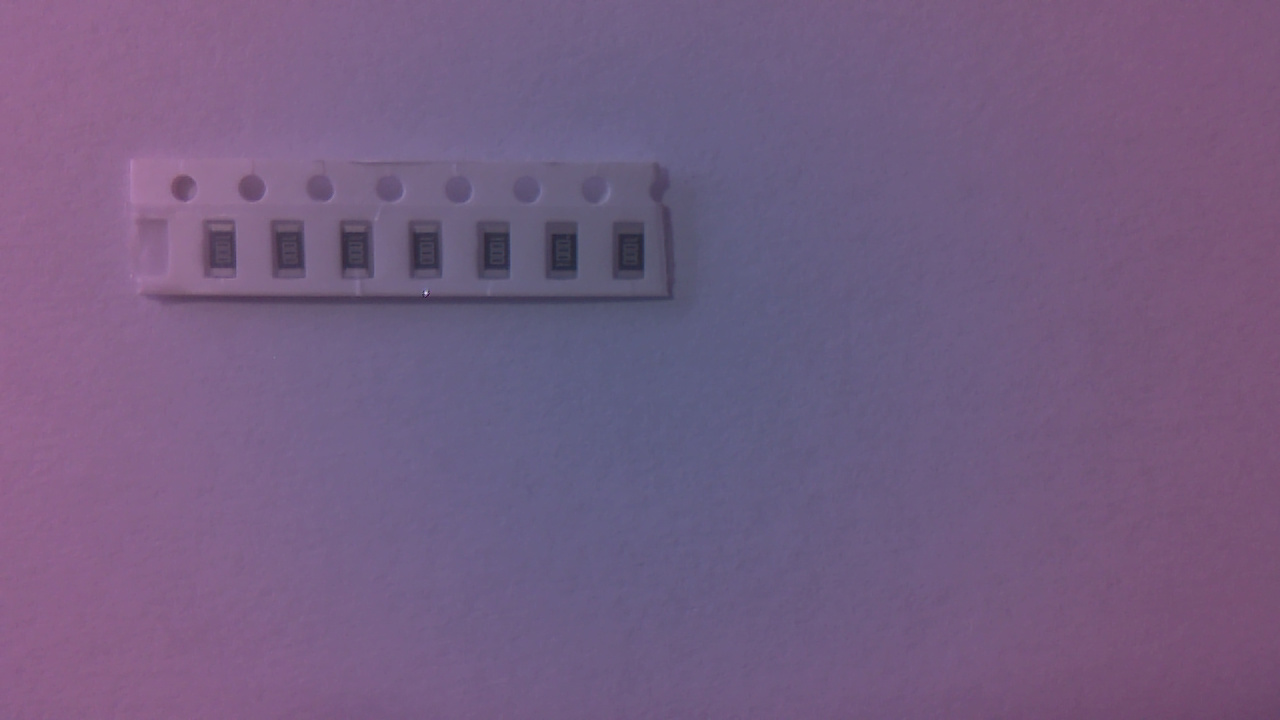Resistor: (414, 224, 449, 287), (277, 225, 313, 285), (345, 222, 381, 281), (484, 225, 518, 287), (209, 222, 243, 283), (548, 227, 584, 283), (617, 225, 651, 282)
